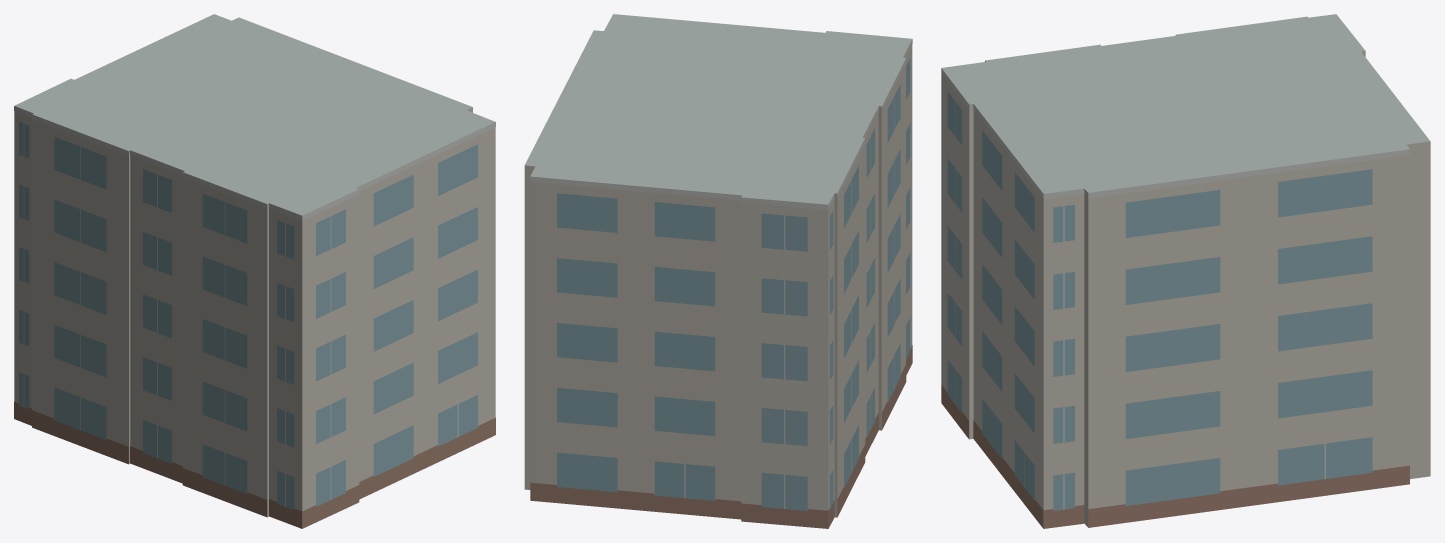
File: survey-upis-32618489.glb
3 views of the same model, side by side, from view 1: azimuth 30°, elevation 25°; view 2: azimuth 150°, elevation 25°; view 3: azimuth 270°, elevation 25° (orthographic). The views are drawn at different scales.
Parts seen in each view (by area): view 1: survey-upis-32618489.tmp; view 2: survey-upis-32618489.tmp; view 3: survey-upis-32618489.tmp.
Part boxes in pixels (x1,y1,x2,y2): survey-upis-32618489.tmp: (14,14,495,528); survey-upis-32618489.tmp: (524,14,912,528); survey-upis-32618489.tmp: (941,14,1430,528).
Size of the model in its own units: 16.94 by 14.7 by 19.47.
